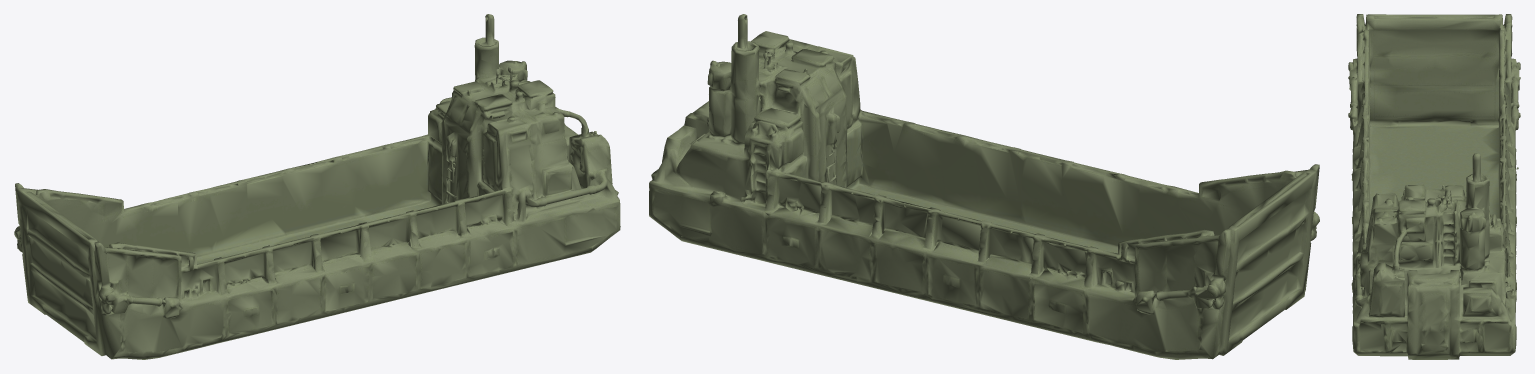
The model's file is assault-barge.glb.
3 renders of one model, left to right at view 1: azimuth 30°, elevation 25°; view 2: azimuth 150°, elevation 25°; view 3: azimuth 270°, elevation 25°, orthographic. The views are drawn at different scales.
Visible parts, largest first — view 1: Hull; view 2: Hull; view 3: Hull.
Part boxes in pixels (x1,y1,x2,y2): Hull: (14,14,620,359); Hull: (649,14,1319,359); Hull: (1348,14,1520,359).
Size of the model in its own units: 2 by 0.7271 by 0.6118.
Materials: 1 (1 with a texture image).
